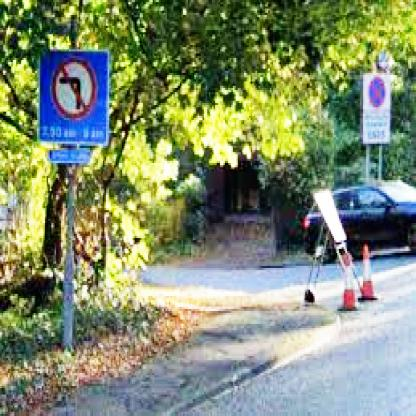No left turn: (50, 51, 99, 120)
